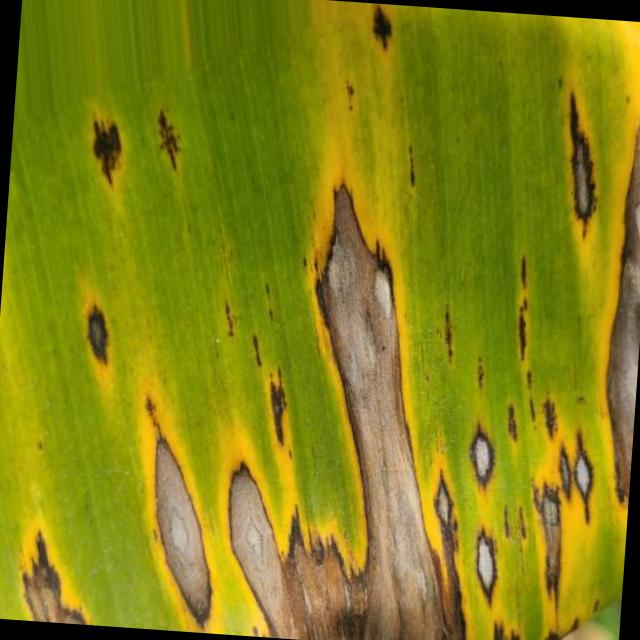Banana_Yellow_Sigatoka: (98, 385, 566, 640), (303, 76, 640, 350)
